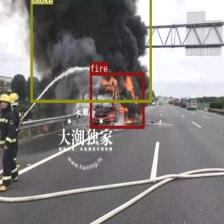fire: (90, 72, 144, 128)
smoke: (31, 0, 151, 102)
